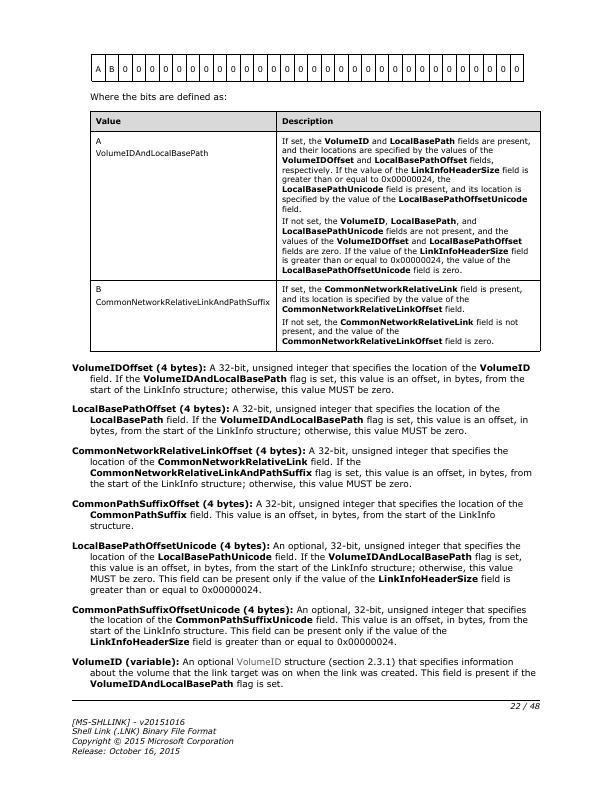table: (88, 110, 543, 353), (87, 52, 527, 85)
text: (68, 539, 522, 596), (70, 444, 533, 490), (68, 604, 528, 647), (68, 656, 537, 691), (68, 403, 529, 438), (70, 498, 524, 533), (70, 363, 532, 396), (68, 712, 234, 757), (88, 90, 228, 105)
